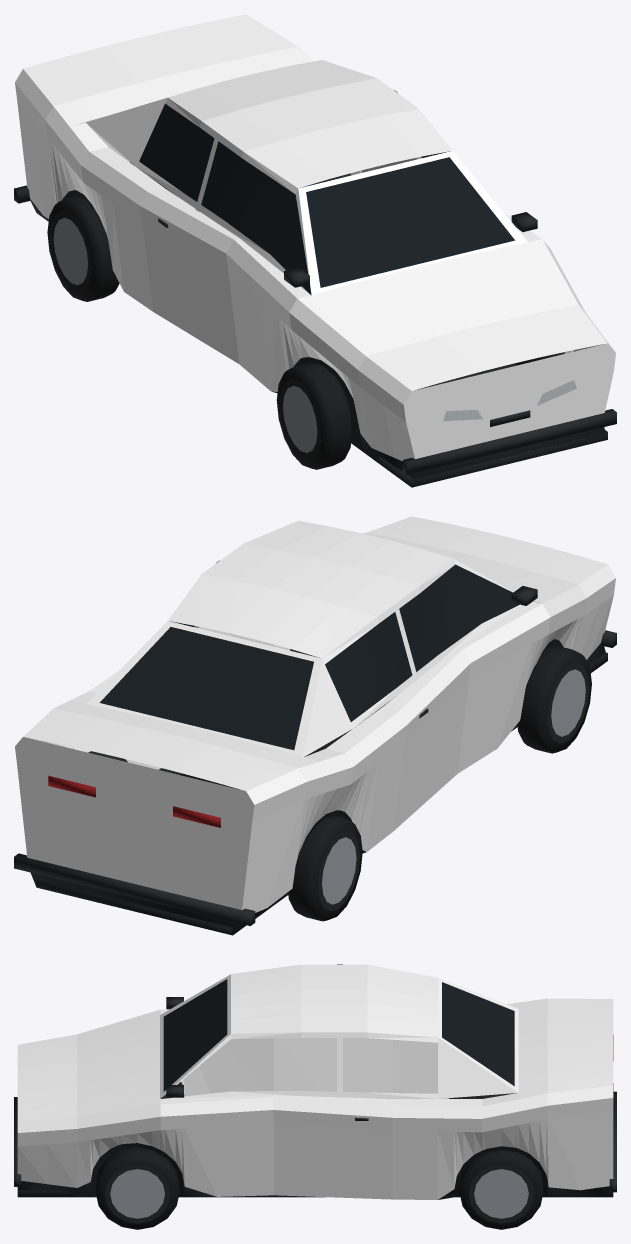
The model's file is whitlock_lavoura.glb.
The picture shows the model from 3 angles, top to bottom: view 1: azimuth 30°, elevation 25°; view 2: azimuth 150°, elevation 25°; view 3: azimuth 270°, elevation 25°; orthographic projection. The views are drawn at different scales.
Visible parts, largest first — view 1: Body_Paint, Body_Details, Mount_FrontLeft_Wheel_Details, Mount_RearLeft_Wheel_Details; view 2: Body_Paint, Body_Details, Mount_FrontLeft_Wheel_Details, Mount_RearLeft_Wheel_Details; view 3: Body_Paint, Body_Details, Mount_FrontRight_Wheel_Details, Mount_RearRight_Wheel_Details.
Part boxes in pixels (left/top/right/bottom): Body_Paint: left=15, top=14, right=615, bottom=461; Body_Details: left=14, top=103, right=616, bottom=487; Mount_FrontLeft_Wheel_Details: left=276, top=362, right=352, bottom=469; Mount_RearLeft_Wheel_Details: left=47, top=195, right=119, bottom=301; Body_Paint: left=15, top=516, right=615, bottom=912; Body_Details: left=14, top=564, right=616, bottom=935; Mount_FrontLeft_Wheel_Details: left=517, top=645, right=591, bottom=753; Mount_RearLeft_Wheel_Details: left=288, top=815, right=362, bottom=921; Body_Paint: left=17, top=964, right=613, bottom=1199; Body_Details: left=14, top=979, right=616, bottom=1199; Mount_FrontRight_Wheel_Details: left=95, top=1147, right=179, bottom=1229; Mount_RearRight_Wheel_Details: left=459, top=1150, right=543, bottom=1229.
Bounding box in the file's own units: 1.83 × 1.49 × 4.43.
Materials: 2 (1 with a texture image).
